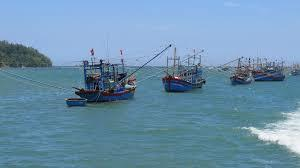Ship: (76, 61, 135, 103), (163, 48, 207, 93), (231, 59, 254, 85)
